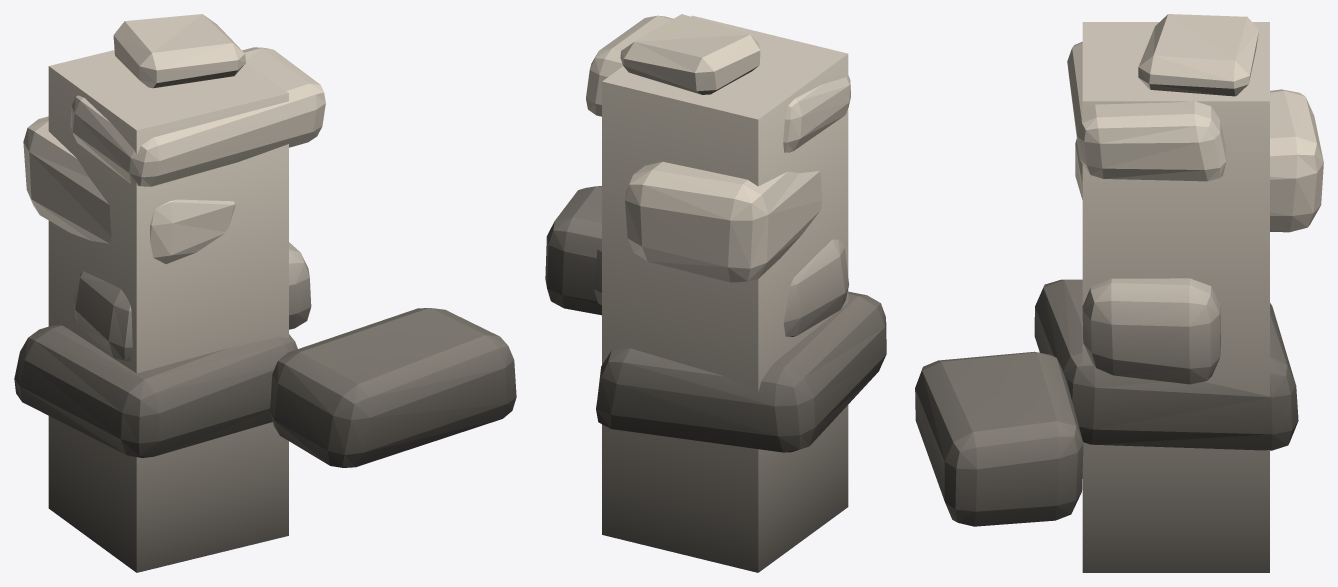
File: SM_VK_Corner_Stone_Half.fbx
The picture shows the model from 3 angles, left to right: view 1: azimuth 30°, elevation 25°; view 2: azimuth 150°, elevation 25°; view 3: azimuth 270°, elevation 25°; orthographic projection. The views are drawn at different scales.
Parts seen in each view (by area): view 1: SM_VK_Corner_Stone_Half.001; view 2: SM_VK_Corner_Stone_Half.001; view 3: SM_VK_Corner_Stone_Half.001.
Part boxes in pixels (x1=…): SM_VK_Corner_Stone_Half.001: x1=14, y1=14, x2=516, y2=572; SM_VK_Corner_Stone_Half.001: x1=545, y1=14, x2=886, y2=572; SM_VK_Corner_Stone_Half.001: x1=915, y1=14, x2=1323, y2=572.
Bounding box in the file's own units: 1.92 × 2.4 × 1.74.
